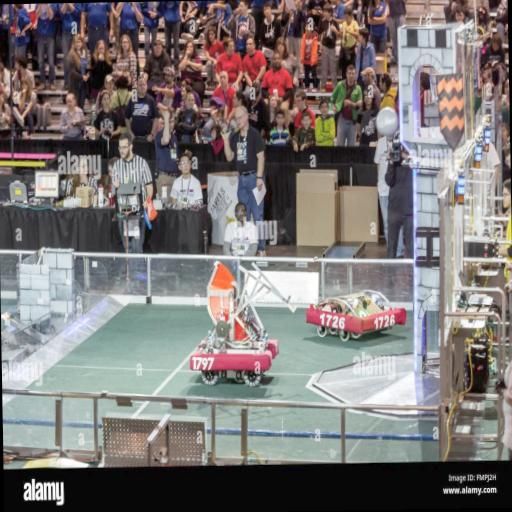robot: (188, 264, 280, 392), (307, 288, 407, 348)
